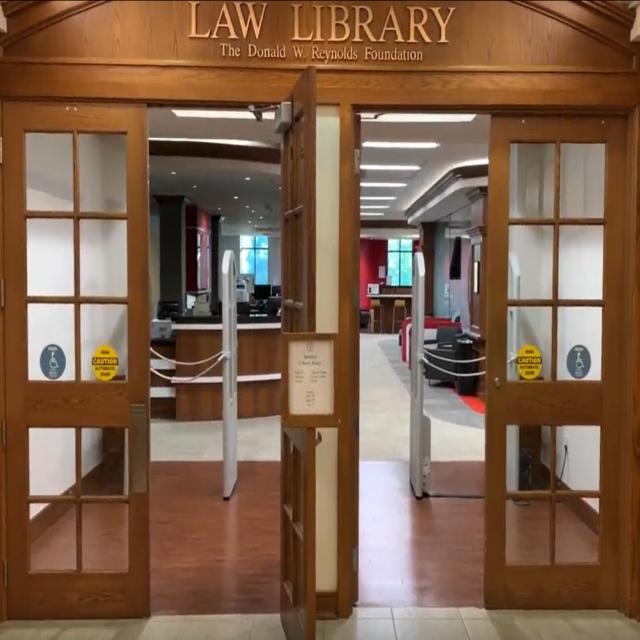door: (0, 66, 315, 638), (338, 88, 639, 623)
